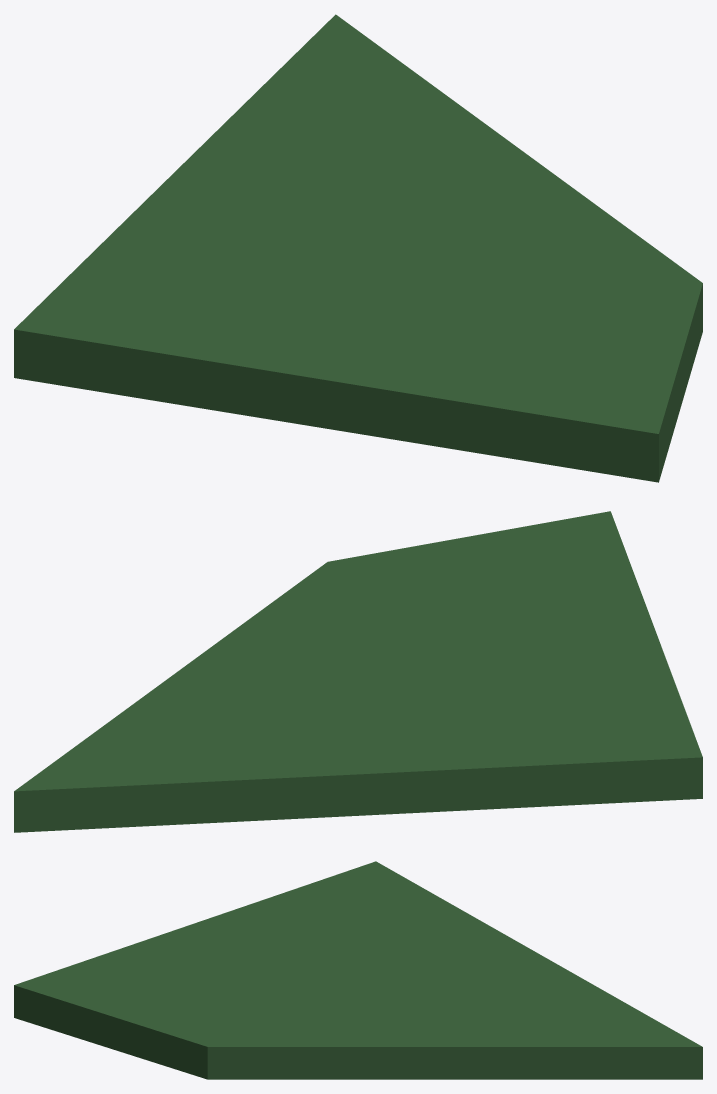
File: x_proval_00_213_1_rmstrd.fbx
3 renders of one model, top to bottom at view 1: azimuth 30°, elevation 25°; view 2: azimuth 150°, elevation 25°; view 3: azimuth 270°, elevation 25°, orthographic. The views are drawn at different scales.
Visible parts, largest first — view 1: x_proval_00_213_1_rmstrd1; view 2: x_proval_00_213_1_rmstrd1; view 3: x_proval_00_213_1_rmstrd1.
Part boxes in pixels (left/top/right/bottom): x_proval_00_213_1_rmstrd1: left=14, top=14, right=702, bottom=482; x_proval_00_213_1_rmstrd1: left=14, top=511, right=702, bottom=832; x_proval_00_213_1_rmstrd1: left=14, top=861, right=702, bottom=1079.
Size of the model in its own units: 2.43 by 0.2 by 3.82.
